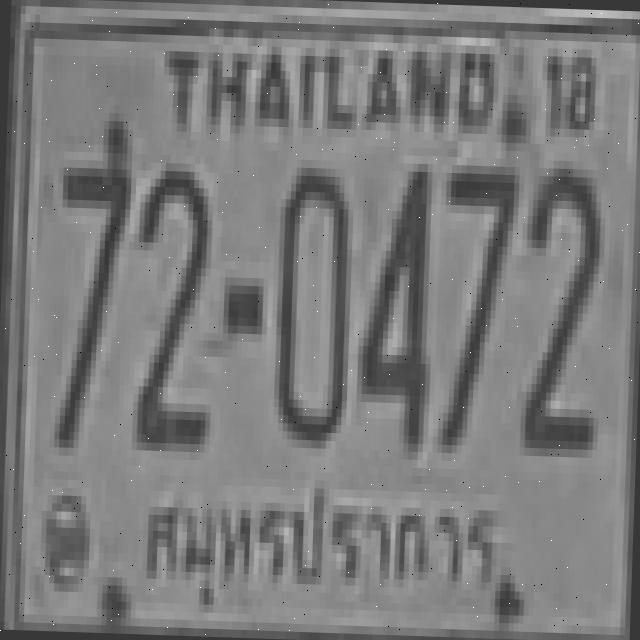0: (268, 158, 350, 440)
2: (516, 160, 600, 450), (129, 162, 211, 444)
4: (354, 154, 432, 444)
7: (50, 119, 128, 441), (436, 156, 514, 446)
SamutPrakan: (130, 462, 512, 628)
